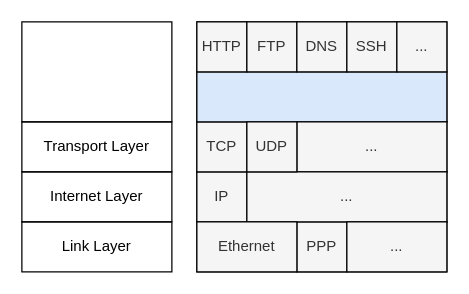
Image size: 469x294. Some labels were removed from this diagram. The centre of each missing label's shape, as x and y in pixels:
"Application Layer" goes at point (96, 71).
"TLS" goes at point (321, 96).
